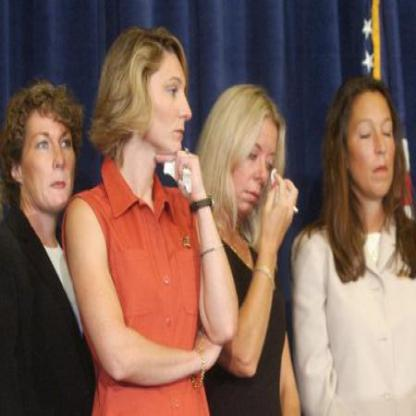face: (20, 86, 82, 215), (139, 35, 198, 161), (344, 81, 401, 203), (226, 95, 281, 219)
